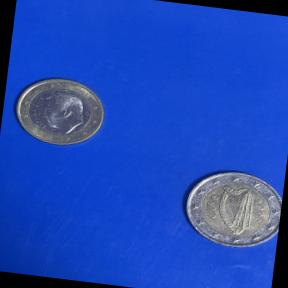coin: (169, 160, 285, 258), (9, 70, 116, 154)
